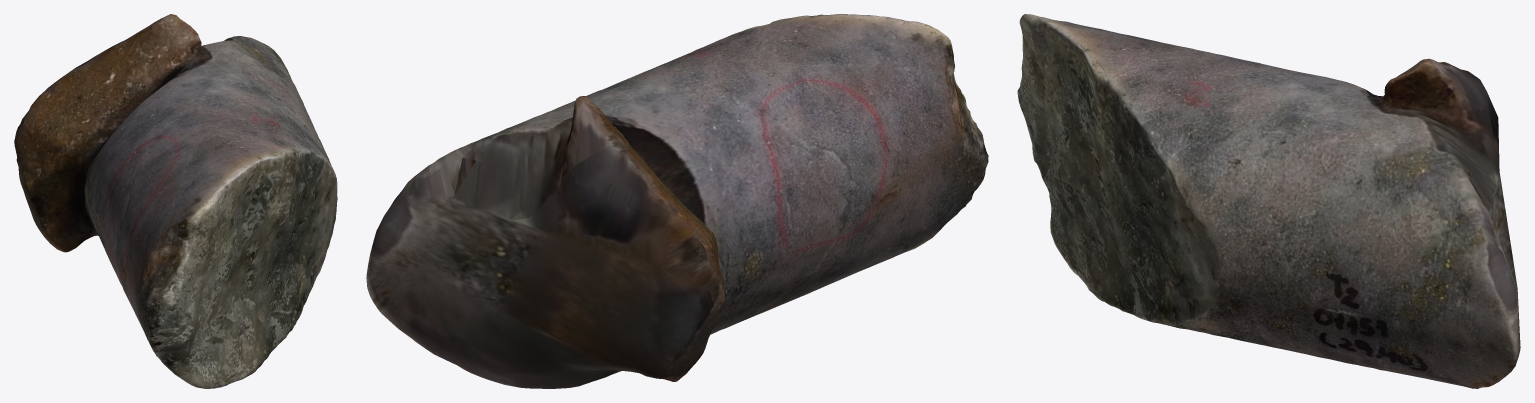
Rendered from PECLD07757 T2.glb.
The picture shows the model from 3 angles, left to right: view 1: azimuth 30°, elevation 25°; view 2: azimuth 150°, elevation 25°; view 3: azimuth 270°, elevation 25°; orthographic projection. The views are drawn at different scales.
Parts seen in each view (by area): view 1: baked_mesh; view 2: baked_mesh; view 3: baked_mesh.
Boxes of the visible parts, x1,y1,x2,y2 form: baked_mesh: (14,14,337,388); baked_mesh: (366,14,988,388); baked_mesh: (1017,14,1520,388).
Bounding box in the file's own units: 0.4433 × 0.3086 × 0.4812.
Materials: 1 (1 with a texture image).
